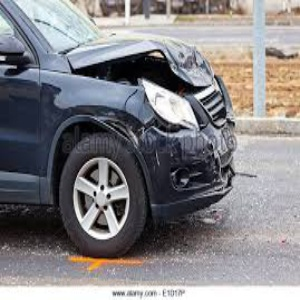bonnet: (99, 32, 204, 83)
